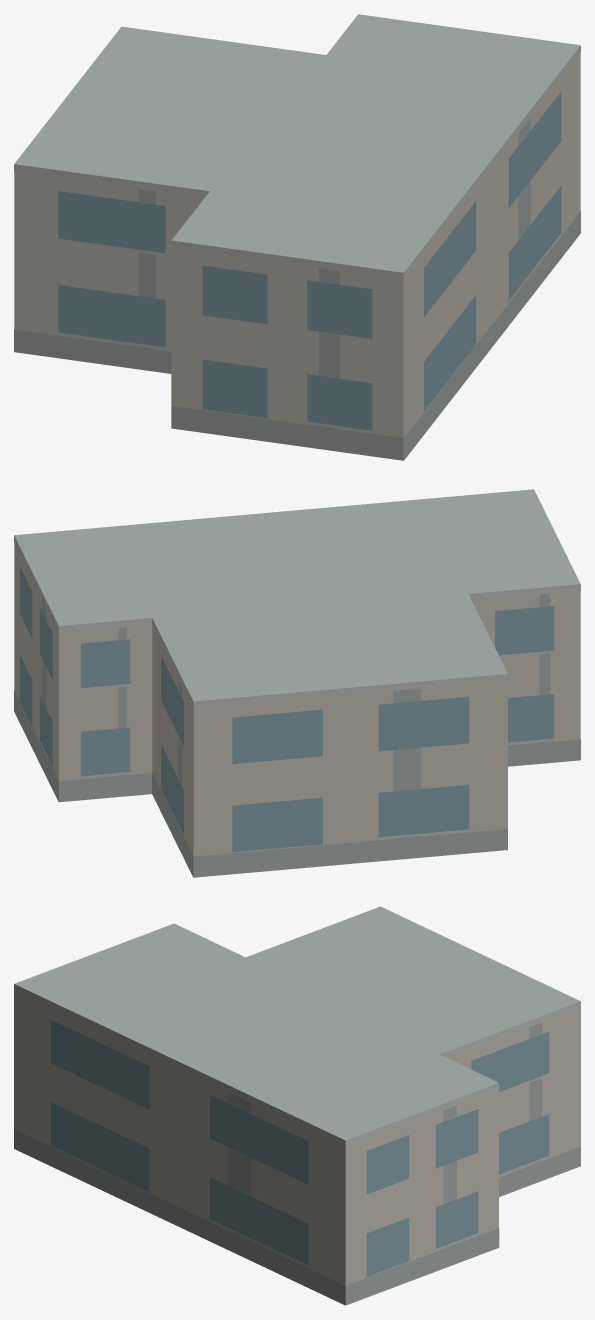
Rendered from residential-1b70258f-36a5-445a-81b9-54e01dcf88ba.glb.
3 views of the same model, one above another, from view 1: azimuth 30°, elevation 25°; view 2: azimuth 150°, elevation 25°; view 3: azimuth 270°, elevation 25° (orthographic). The views are drawn at different scales.
Visible parts, largest first — view 1: residential-1b70258f-36a5-445a-81b9-54e01dcf88ba.tmp; view 2: residential-1b70258f-36a5-445a-81b9-54e01dcf88ba.tmp; view 3: residential-1b70258f-36a5-445a-81b9-54e01dcf88ba.tmp.
Part boxes in pixels (bbox=[...]): residential-1b70258f-36a5-445a-81b9-54e01dcf88ba.tmp: bbox=[14, 14, 580, 460]; residential-1b70258f-36a5-445a-81b9-54e01dcf88ba.tmp: bbox=[14, 489, 580, 877]; residential-1b70258f-36a5-445a-81b9-54e01dcf88ba.tmp: bbox=[14, 906, 580, 1305].
Bounding box in the file's own units: 18.58 × 6.1 × 19.
